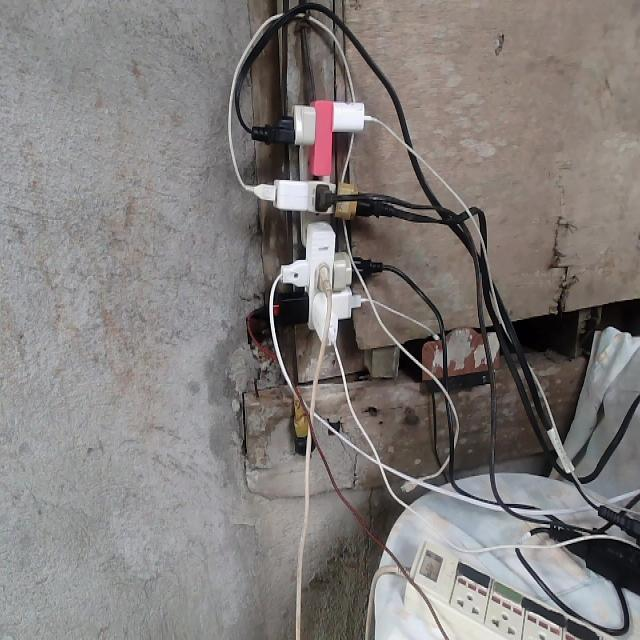-: (266, 97, 378, 348)
